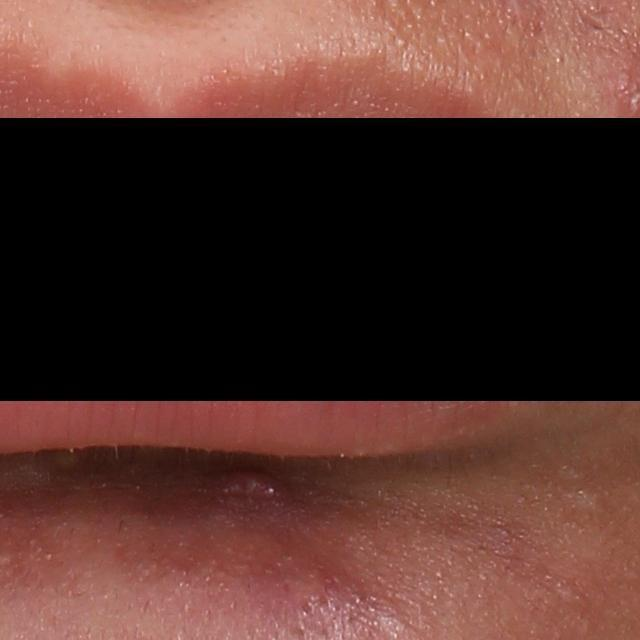papule: (199, 463, 307, 516)
